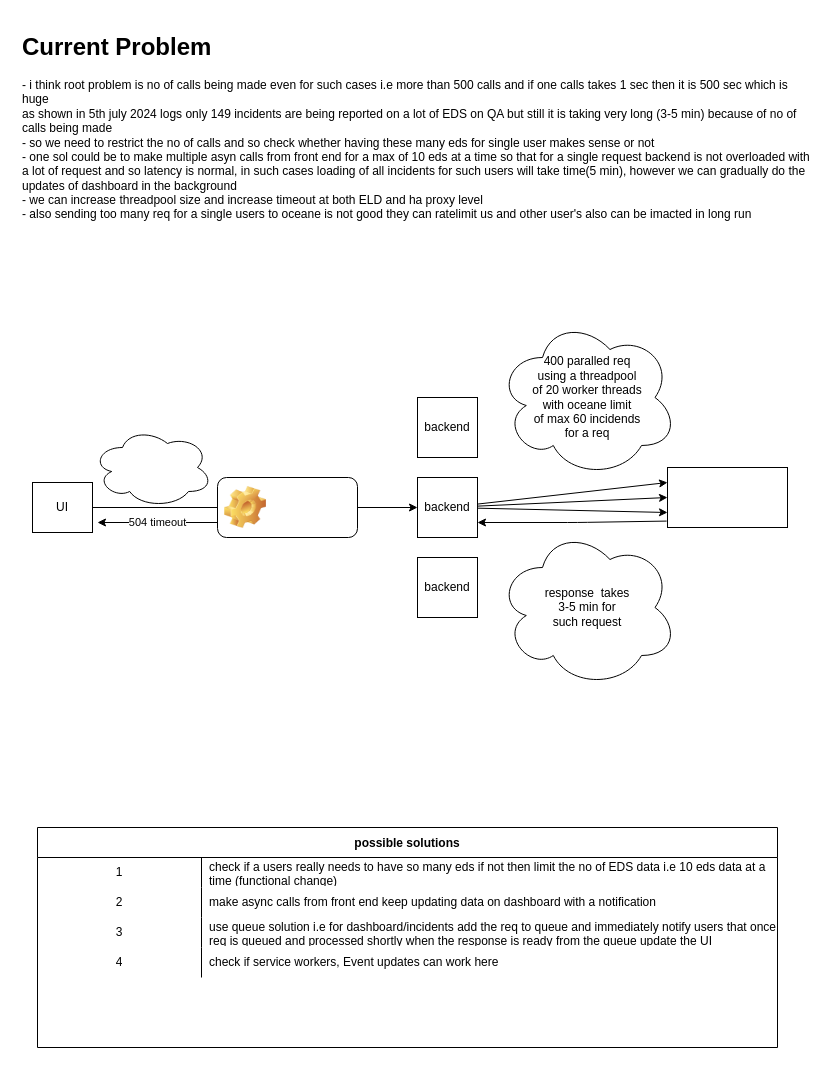
The diagram is 834 pixels wide and 1065 high, and some of its shapes have lost their labels. Each missing label, with the centre of its shape:
"ELB/HA proxy 50/60 sec timout" goes at point (287, 507).
"oceane" goes at point (727, 497).
"single req for users with 100 eds" goes at point (152, 467).
